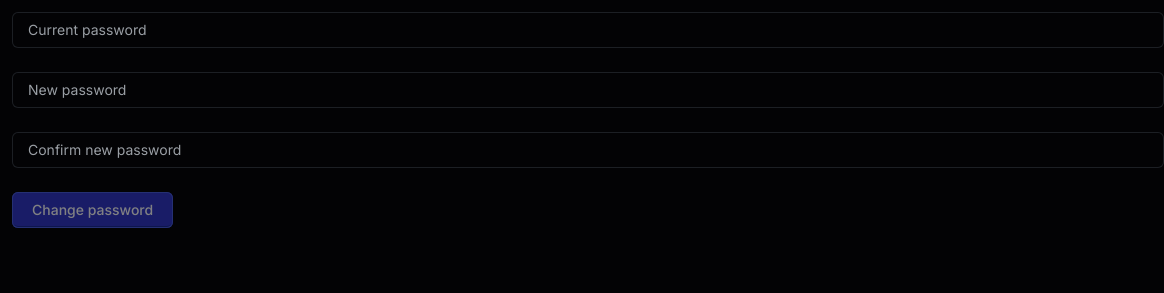
Test case: ChangePasswordForm › shows required error for empty current password on submit
This screenshot has width=1164, height=293.
Step 1. Type "old" into the password field labelled "Current password" → (588, 30), box [28,12,1148,48]
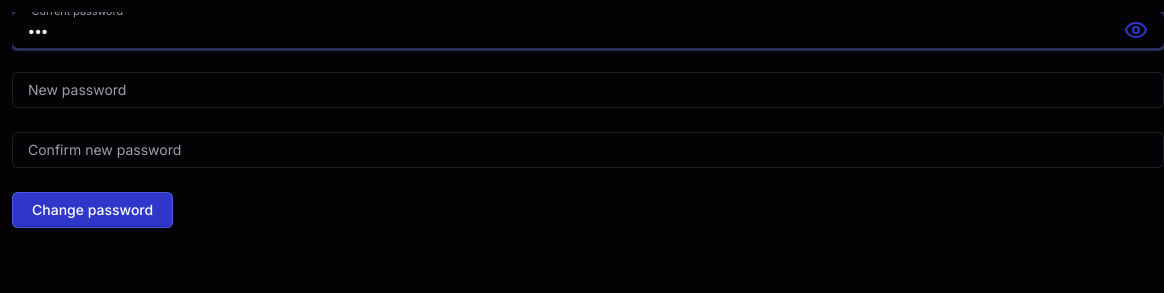
Step 2. Clear the password field labelled "Current password" → (572, 30), box [28,12,1116,48]
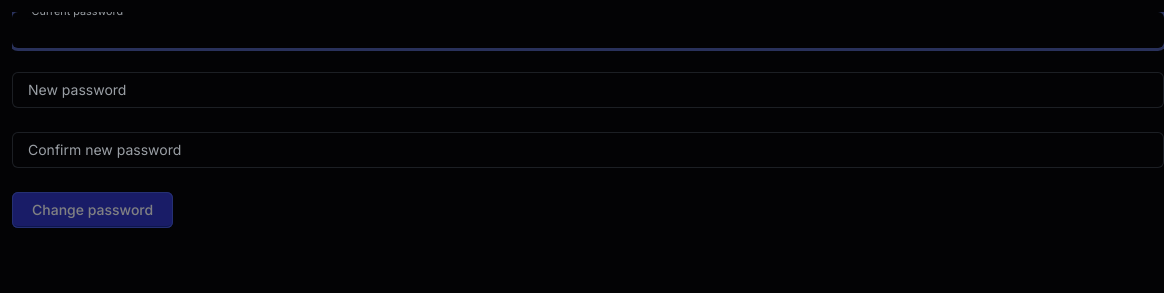
Step 3. Type "newpassword1" into the password field labelled "New password" → (588, 90), box [28,72,1148,108]
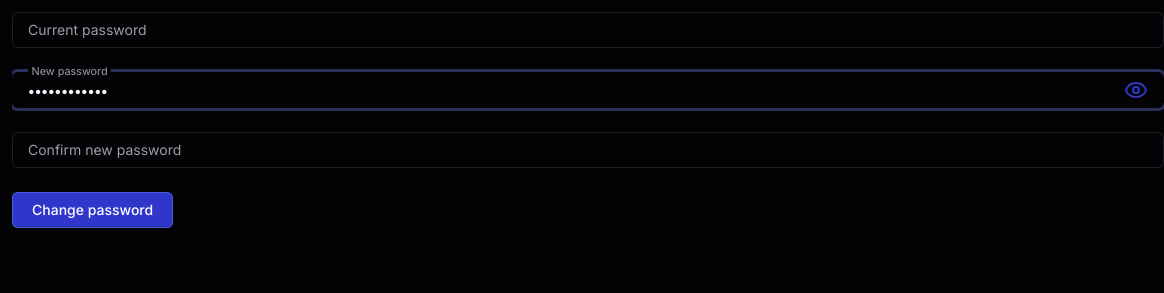
Step 4. Click the button "Change password" → (93, 210), box [12,192,173,228]
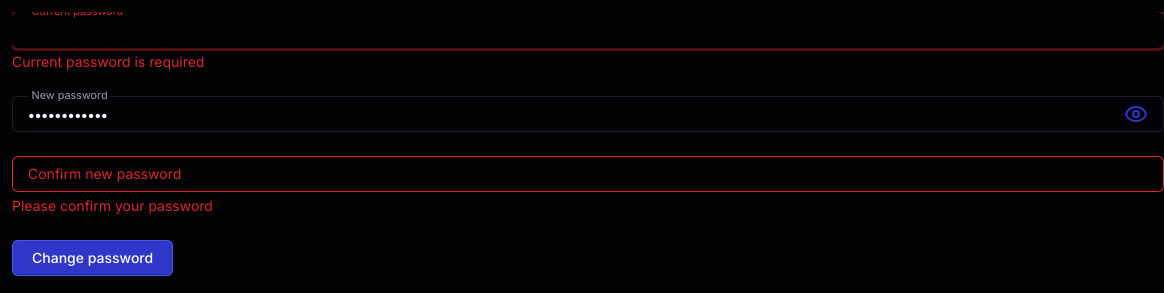
Expected: the text "Current password is required" is shown, [12,52,204,72]
